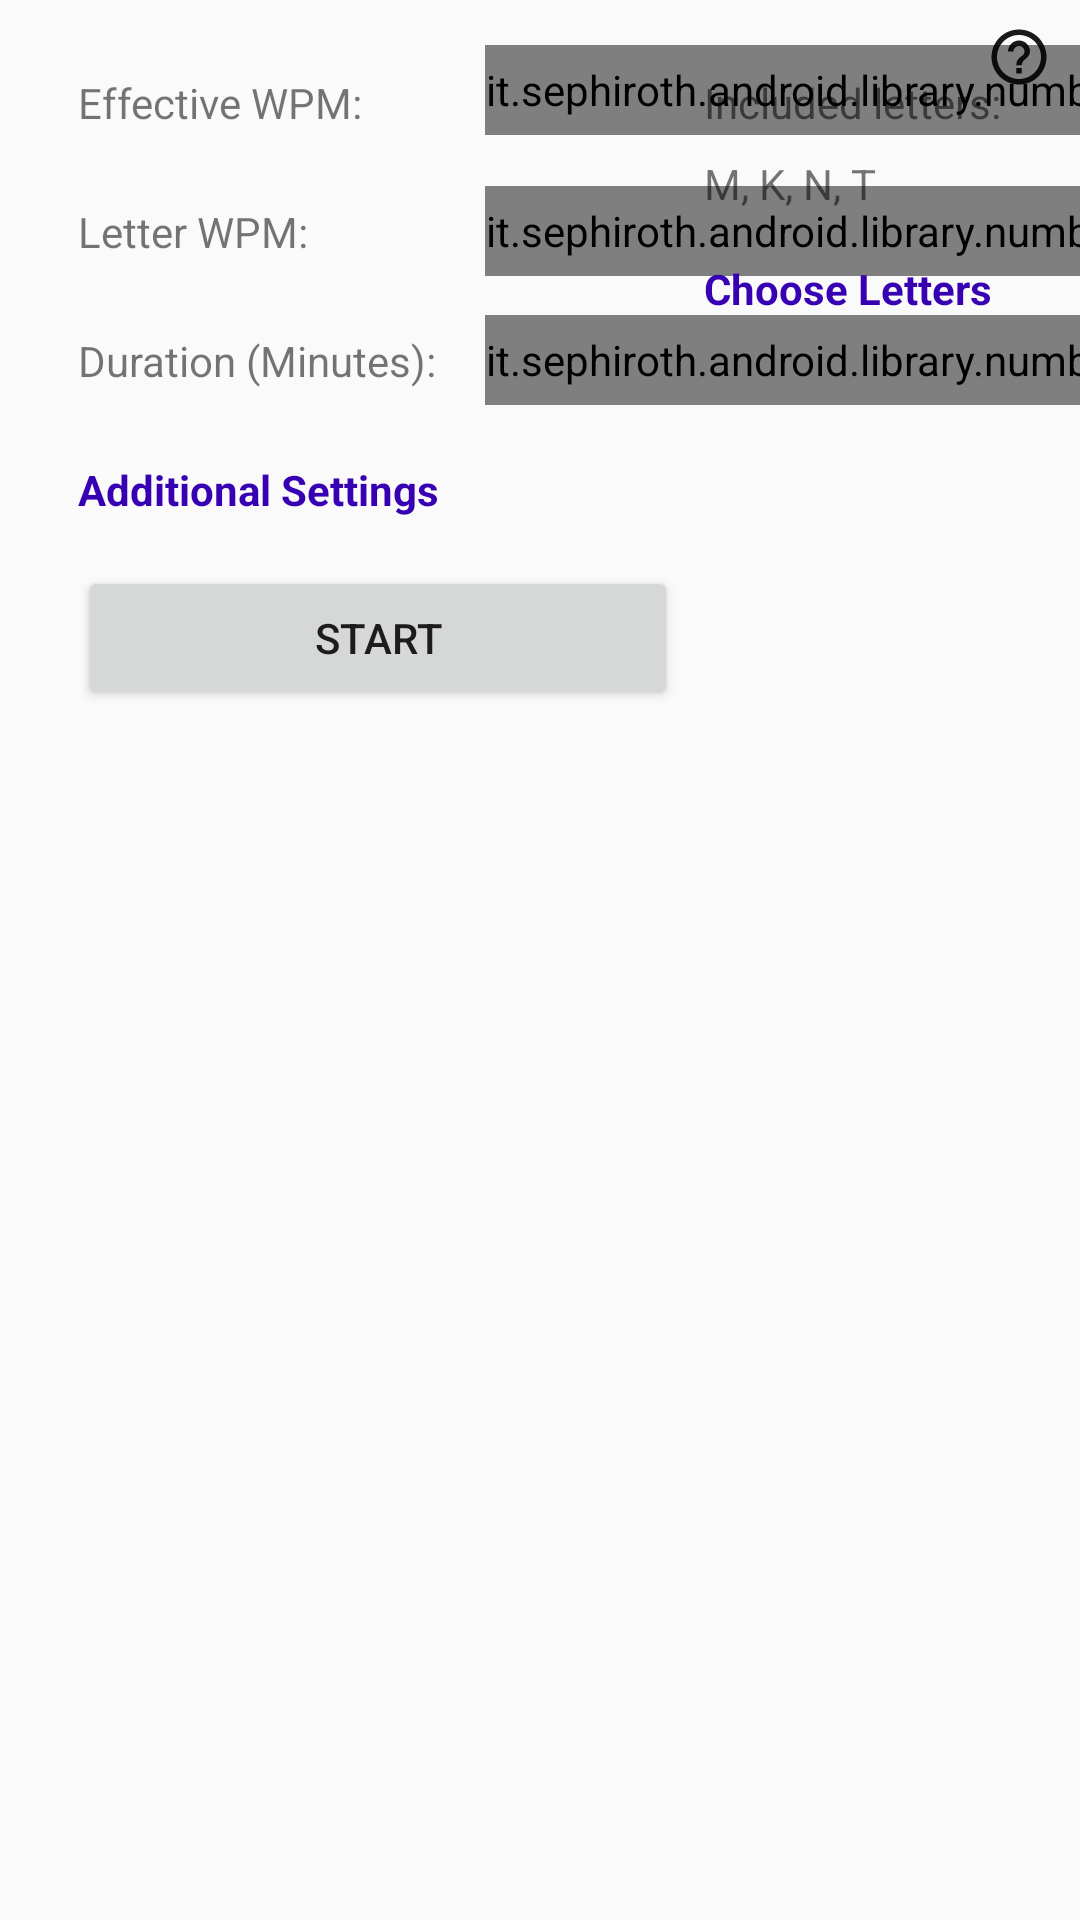

Icon click points for this 1080×1920 phone screenshot, format (x,y):
help: (1018,57)
